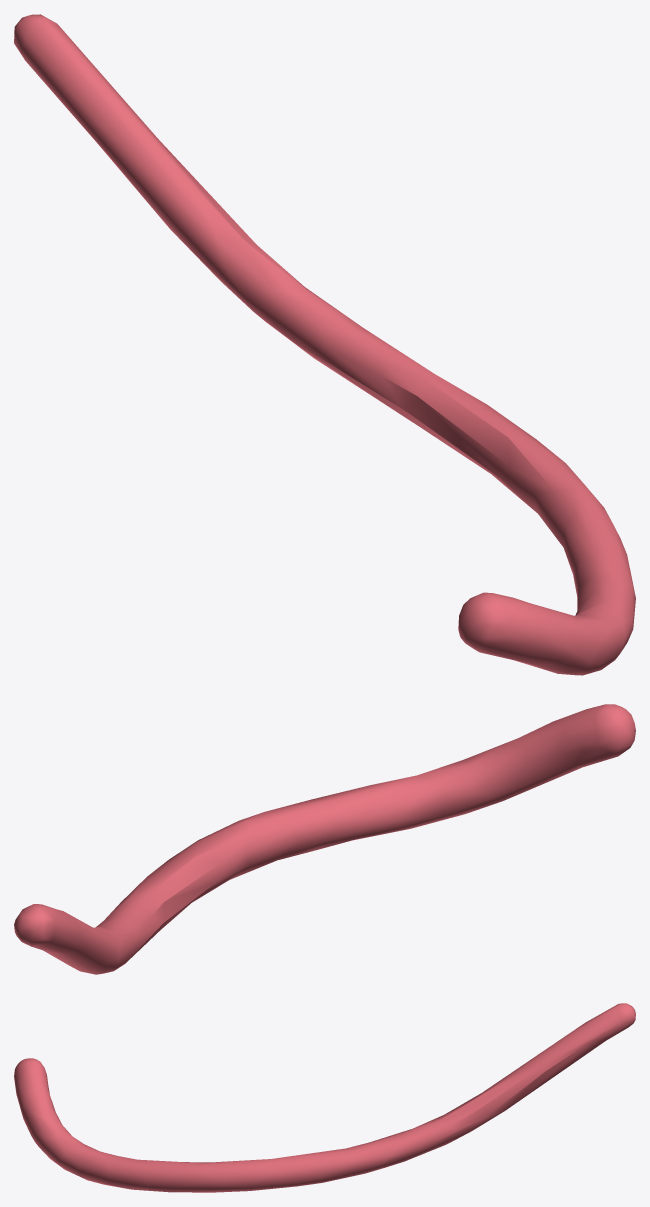
Rendered from fma50642_fj1714m.glb.
The picture shows the model from 3 angles, top to bottom: view 1: azimuth 30°, elevation 25°; view 2: azimuth 150°, elevation 25°; view 3: azimuth 270°, elevation 25°; orthographic projection. The views are drawn at different scales.
Parts seen in each view (by area): view 1: FMA50642_FJ1714M; view 2: FMA50642_FJ1714M; view 3: FMA50642_FJ1714M.
Part boxes in pixels (left/top/right/bottom): FMA50642_FJ1714M: left=14, top=14, right=635, bottom=675; FMA50642_FJ1714M: left=14, top=704, right=635, bottom=974; FMA50642_FJ1714M: left=14, top=1003, right=635, bottom=1192.
Size of the model in its own units: 0.0112 by 0.0101 by 0.0369.
